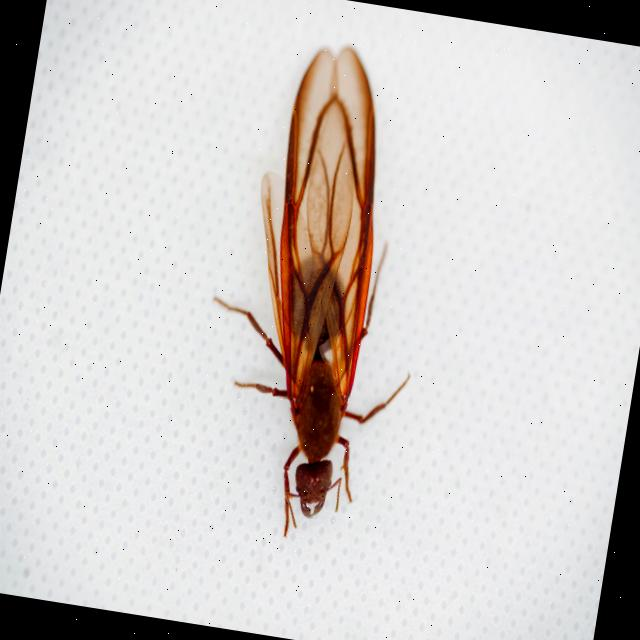Alive-Female-Alate: (178, 31, 460, 554)
